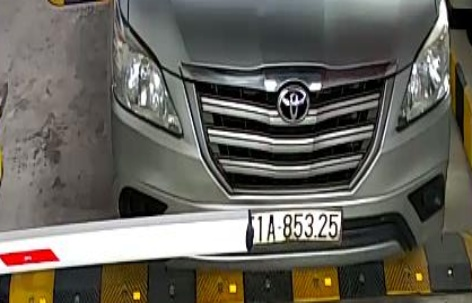plate: (229, 204, 345, 244)
